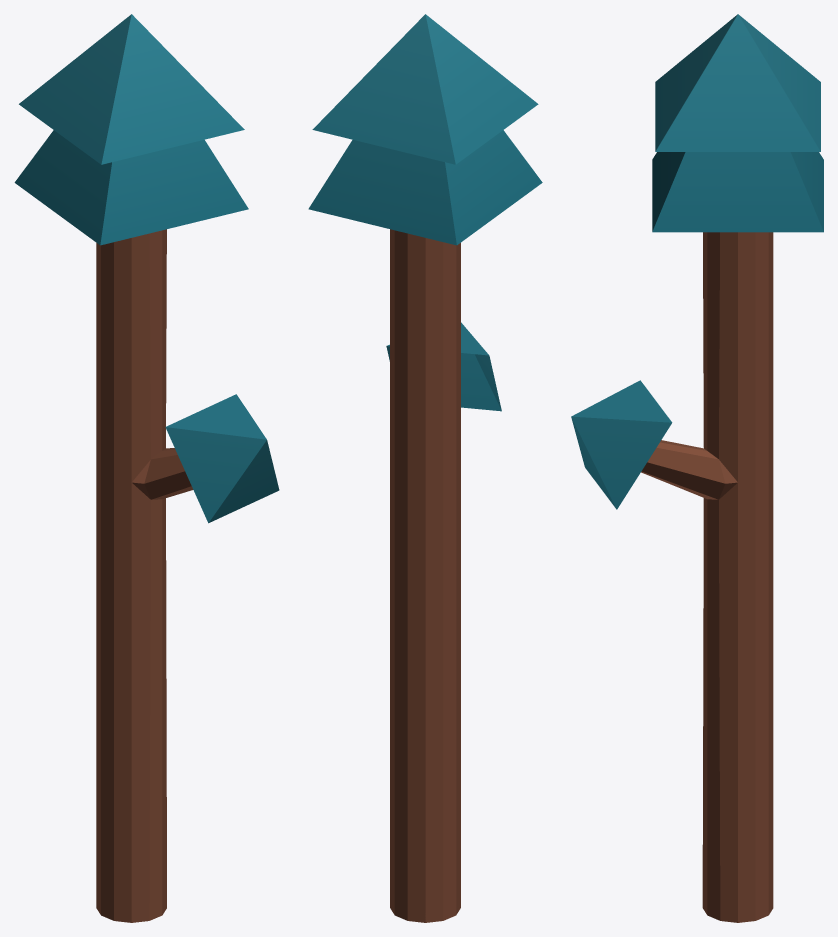
The model's file is Tree_25_gradient_blue_vc.fbx.
The picture shows the model from 3 angles, left to right: view 1: azimuth 30°, elevation 25°; view 2: azimuth 150°, elevation 25°; view 3: azimuth 270°, elevation 25°; orthographic projection.
Parts seen in each view (by area): view 1: Tree_25_gradient_blue_vc; view 2: Tree_25_gradient_blue_vc; view 3: Tree_25_gradient_blue_vc.
Part boxes in pixels (left/top/right/bottom): Tree_25_gradient_blue_vc: left=14, top=14, right=279, bottom=922; Tree_25_gradient_blue_vc: left=308, top=14, right=542, bottom=922; Tree_25_gradient_blue_vc: left=571, top=14, right=823, bottom=922.
Bounding box in the file's own units: 58.32 × 308 × 79.03.
